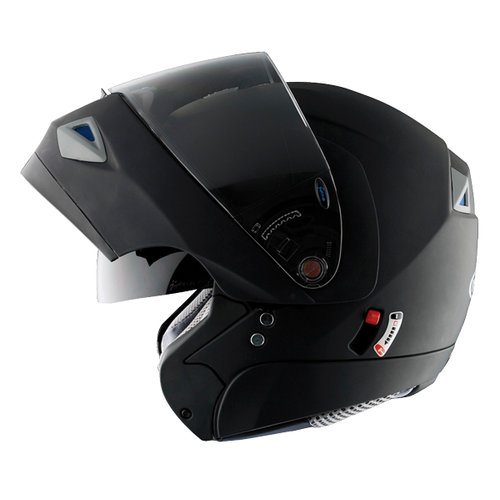helmet: (39, 65, 484, 423)
